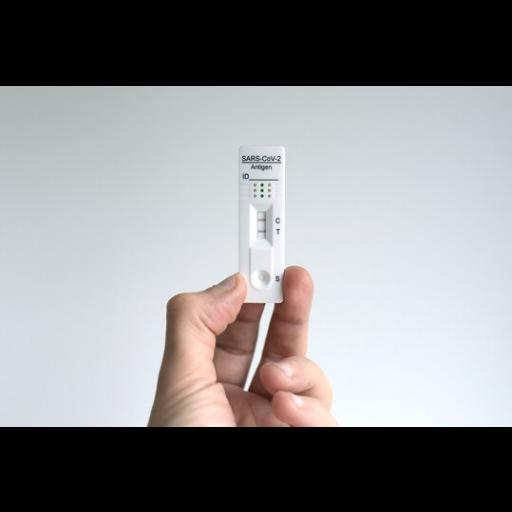Pos: (239, 144, 283, 300)
